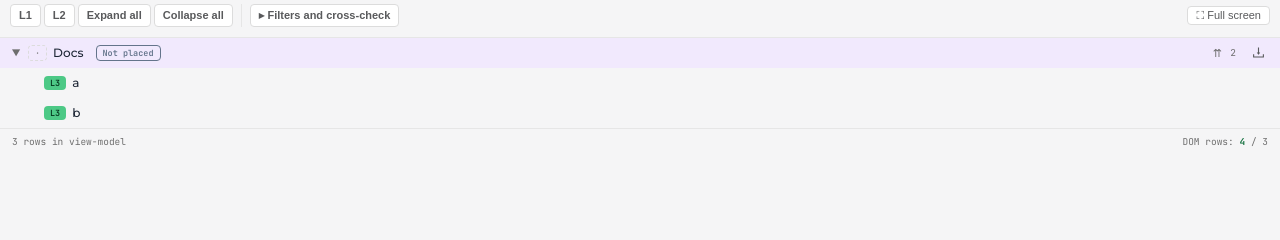
Scenario: cross-check toggle › is disabled, with the reason, when no cross-check is saved
Click the button "▸ Filters and cross-check": click(325, 15) [250,4,399,26]
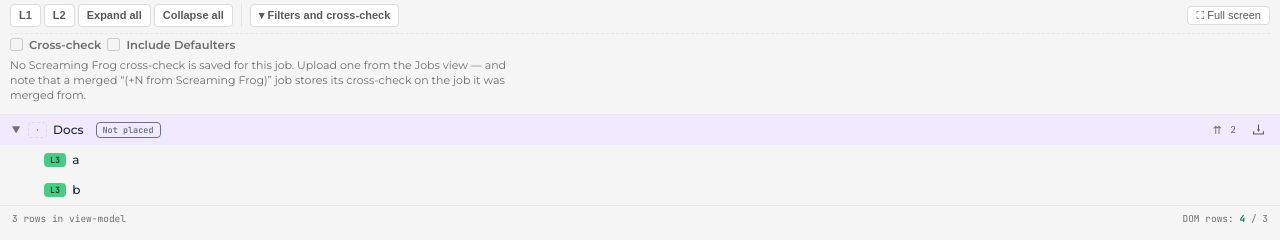
Expected: the checkbox labelled "Cross-check" is disabled, [10,38,23,51]
Expected: the text "No Screaming Frog cross-check is saved" is shown, [10,58,506,102]
